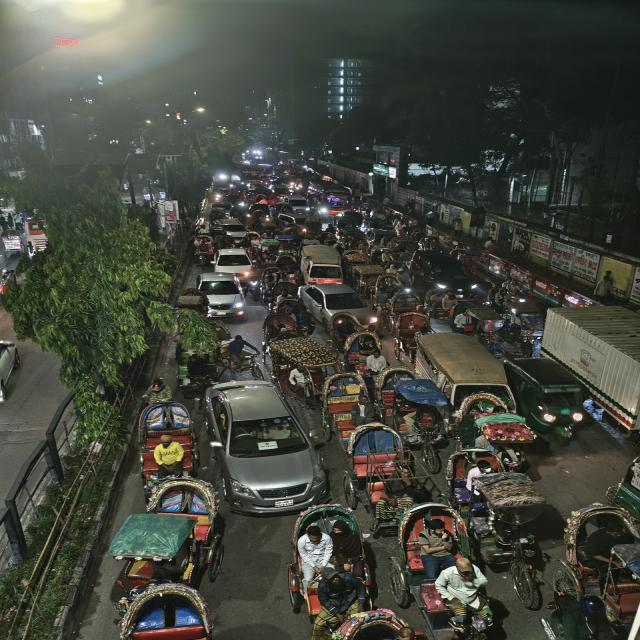bus: (308, 181, 352, 217)
car: (202, 379, 326, 516), (298, 282, 379, 330), (411, 249, 478, 293), (194, 272, 249, 318), (210, 248, 257, 276), (214, 222, 254, 240)
cng: (508, 356, 590, 432), (285, 195, 310, 217)
human_hauler: (414, 333, 506, 396), (298, 246, 345, 284)
pedestrian: (425, 286, 458, 320)
rickshaw: (282, 504, 378, 636), (394, 502, 488, 620), (556, 502, 640, 628), (340, 419, 419, 529), (133, 395, 198, 474), (265, 325, 329, 397), (473, 399, 538, 451), (377, 367, 438, 417), (320, 371, 366, 435), (397, 406, 445, 446), (387, 294, 430, 337), (340, 330, 382, 370), (342, 248, 378, 291), (371, 273, 406, 303), (271, 228, 299, 256), (276, 253, 301, 284), (192, 233, 215, 264)
truck: (544, 307, 640, 445)
